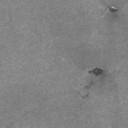iron sheet ash: (88, 66, 104, 77), (109, 4, 119, 14)
